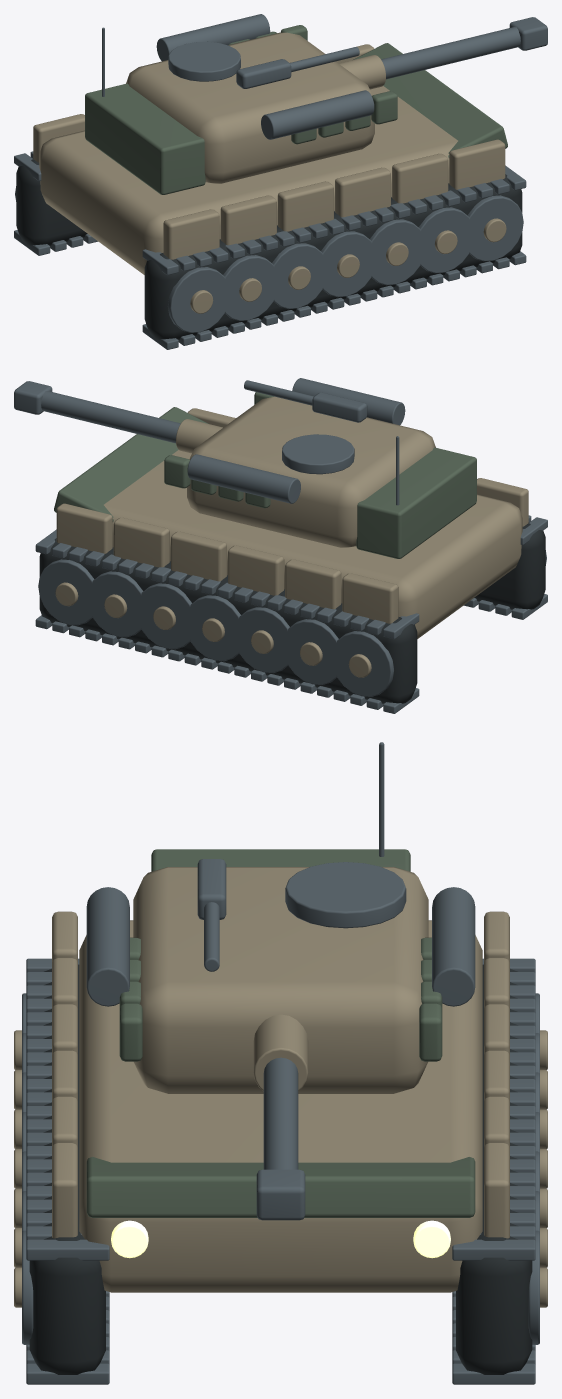
The model's file is bastion.glb.
The picture shows the model from 3 angles, top to bottom: view 1: azimuth 30°, elevation 25°; view 2: azimuth 150°, elevation 25°; view 3: azimuth 270°, elevation 25°; orthographic projection. The views are drawn at different scales.
Visible parts, largest first — view 1: Armoured hull, Turret armour, Turret rear storage, Continuous track, Sloped glacis, Rocket tube, Cannon tube, Continuous track.001, Road wheel, Road wheel.006, Road wheel.002, Road wheel.001 (+25 smaller); view 2: Armoured hull, Turret armour, Turret rear storage, Continuous track.001, Sloped glacis, Rocket tube.001, Cannon tube, Continuous track, Road wheel.007, Road wheel.013, Road wheel.012, Road wheel.008 (+26 smaller); view 3: Armoured hull, Turret armour, Sloped glacis, Continuous track, Continuous track.001, Commander hatch, Rocket tube, Rocket tube.001, Turret rear storage, Cannon tube, Thermal sleeve, Muzzle brake (+24 smaller).
Boxes of the visible parts, x1,y1,x2,y2 form: Armoured hull: [39, 86, 457, 274]; Turret armour: [126, 32, 374, 183]; Turret rear storage: [85, 83, 205, 194]; Continuous track: [144, 174, 522, 339]; Sloped glacis: [353, 43, 507, 157]; Rocket tube: [261, 90, 374, 139]; Cannon tube: [381, 27, 520, 79]; Continuous track.001: [16, 158, 87, 245]; Road wheel: [168, 267, 229, 332]; Road wheel.006: [465, 195, 523, 261]; Road wheel.002: [270, 243, 327, 308]; Road wheel.001: [221, 255, 278, 320]; Armoured hull: [104, 450, 522, 638]; Turret armour: [187, 396, 435, 547]; Turret rear storage: [356, 447, 476, 558]; Continuous track.001: [39, 538, 417, 703]; Sloped glacis: [54, 407, 208, 521]; Rocket tube.001: [187, 454, 300, 503]; Cannon tube: [41, 391, 180, 443]; Continuous track: [474, 522, 545, 609]; Road wheel.007: [332, 631, 393, 696]; Road wheel.013: [38, 559, 96, 625]; Road wheel.012: [87, 571, 145, 637]; Road wheel.008: [283, 619, 340, 684]; Armoured hull: [79, 920, 482, 1292]; Turret armour: [133, 867, 428, 1093]; Sloped glacis: [86, 1157, 475, 1217]; Continuous track: [29, 964, 105, 1374]; Continuous track.001: [456, 964, 532, 1374]; Commander hatch: [285, 862, 406, 928]; Rocket tube: [86, 887, 129, 1006]; Rocket tube.001: [432, 887, 475, 1006]; Turret rear storage: [151, 849, 410, 871]; Cannon tube: [263, 1057, 298, 1169]; Thermal sleeve: [253, 1014, 308, 1090]; Muzzle brake: [256, 1169, 305, 1220].
Size of the model in its own units: 6.08 by 2.97 by 3.71.
